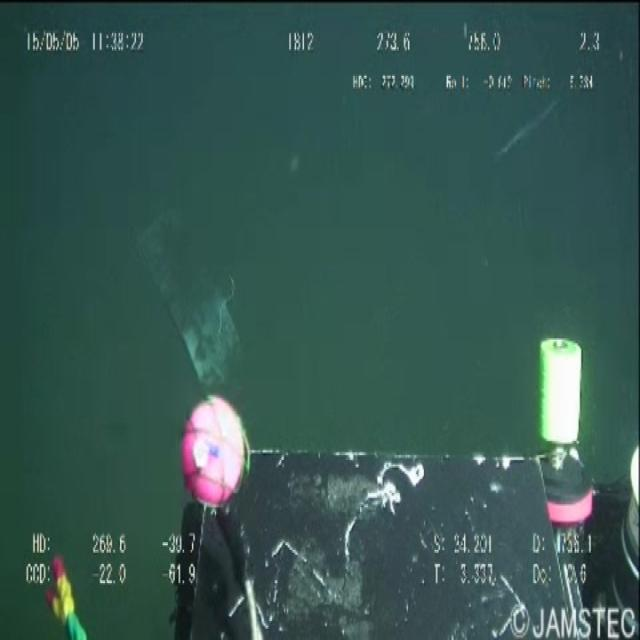Metal: (121, 216, 268, 418)
